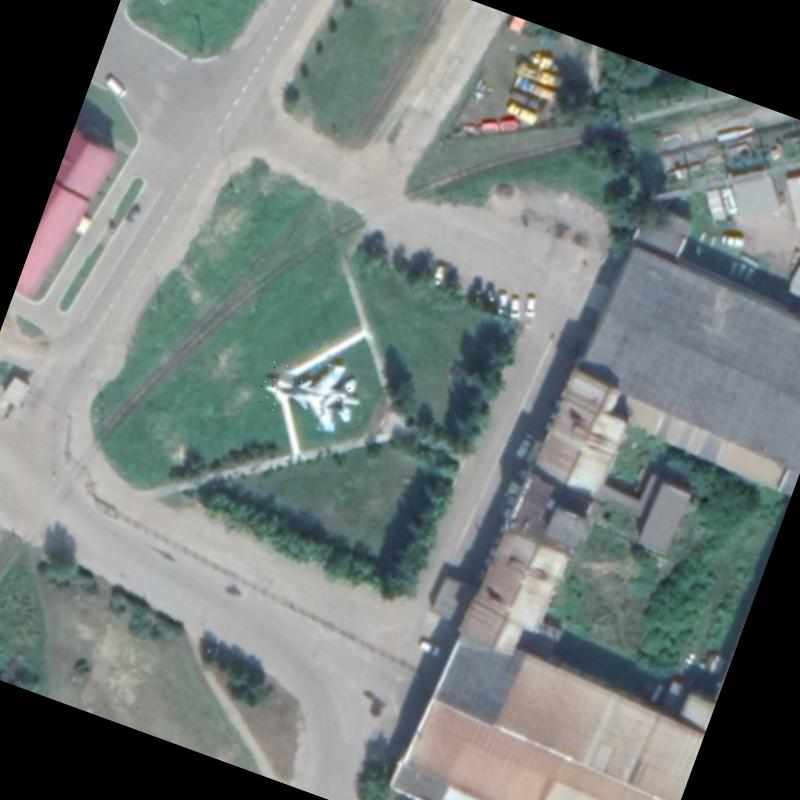A19: (253, 336, 372, 439)
